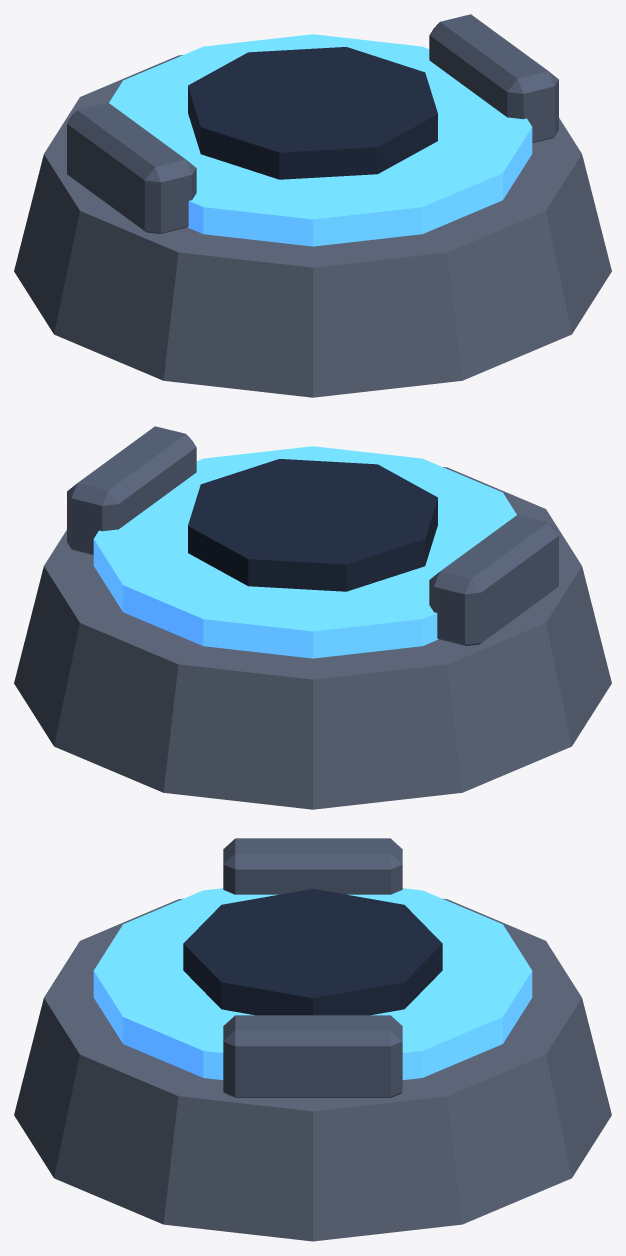
File: city_holo_projector.glb
3 views of the same model, one above another, from view 1: azimuth 30°, elevation 25°; view 2: azimuth 150°, elevation 25°; view 3: azimuth 270°, elevation 25° (orthographic).
Visible parts, largest first — view 1: disc_base, emitter_ring, emitter, clamp, clamp.001; view 2: disc_base, emitter_ring, emitter, clamp, clamp.001; view 3: disc_base, emitter_ring, emitter, clamp.001, clamp.
Part boxes in pixels (bbox=[...]): disc_base: bbox=[14, 55, 611, 397]; emitter_ring: bbox=[109, 34, 532, 246]; emitter: bbox=[188, 47, 437, 179]; clamp: bbox=[67, 102, 196, 233]; clamp.001: bbox=[429, 14, 558, 142]; disc_base: bbox=[14, 467, 611, 809]; emitter_ring: bbox=[93, 446, 516, 658]; emitter: bbox=[188, 459, 437, 591]; clamp: bbox=[429, 514, 558, 645]; clamp.001: bbox=[67, 426, 196, 554]; disc_base: bbox=[14, 898, 611, 1241]; emitter_ring: bbox=[93, 888, 532, 1079]; emitter: bbox=[183, 889, 442, 1015]; clamp.001: bbox=[223, 1015, 402, 1097]; clamp: bbox=[223, 838, 402, 894].
Size of the model in its own units: 0.6 by 0.2 by 0.6.
